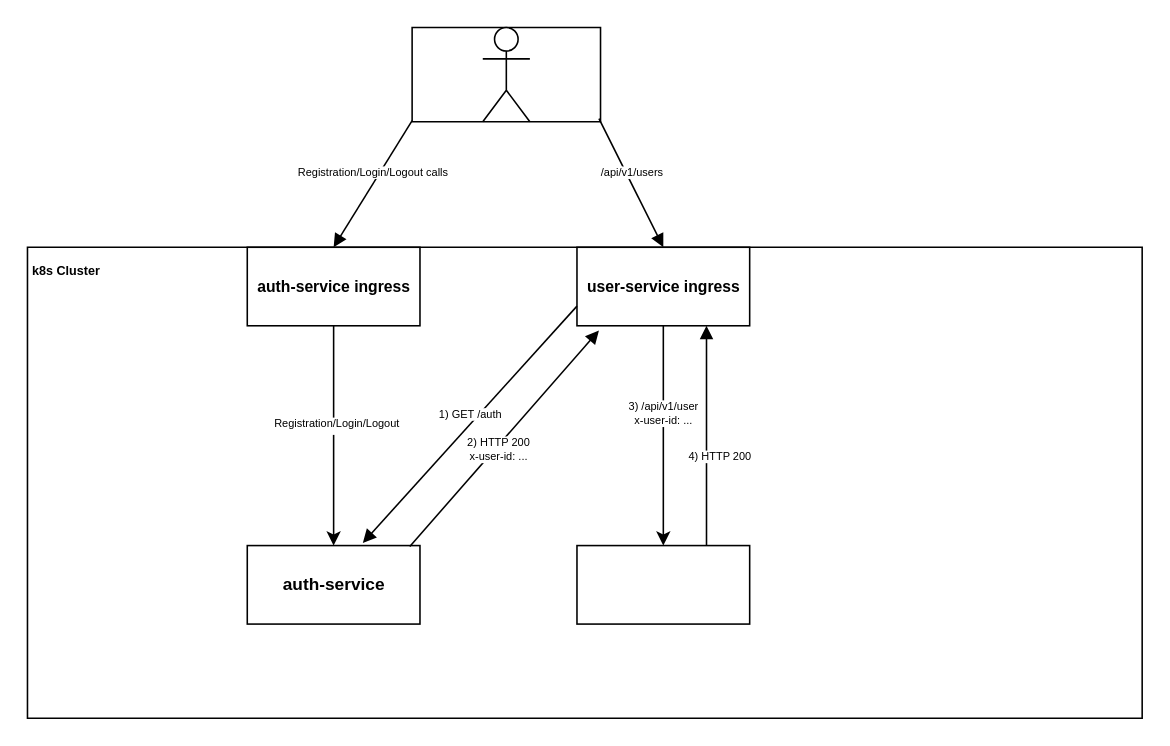
Image size: 1170x746. Some labels were removed from this diagram. The centre of each missing label's shape, as x and y in pixels:
"Actor" goes at point 505,74.
"user-service" goes at point 662,584.
